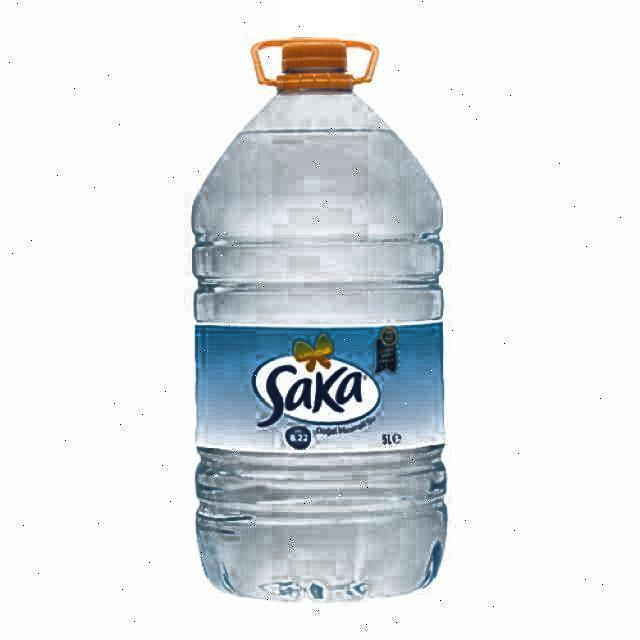plastic: (189, 33, 450, 611)
